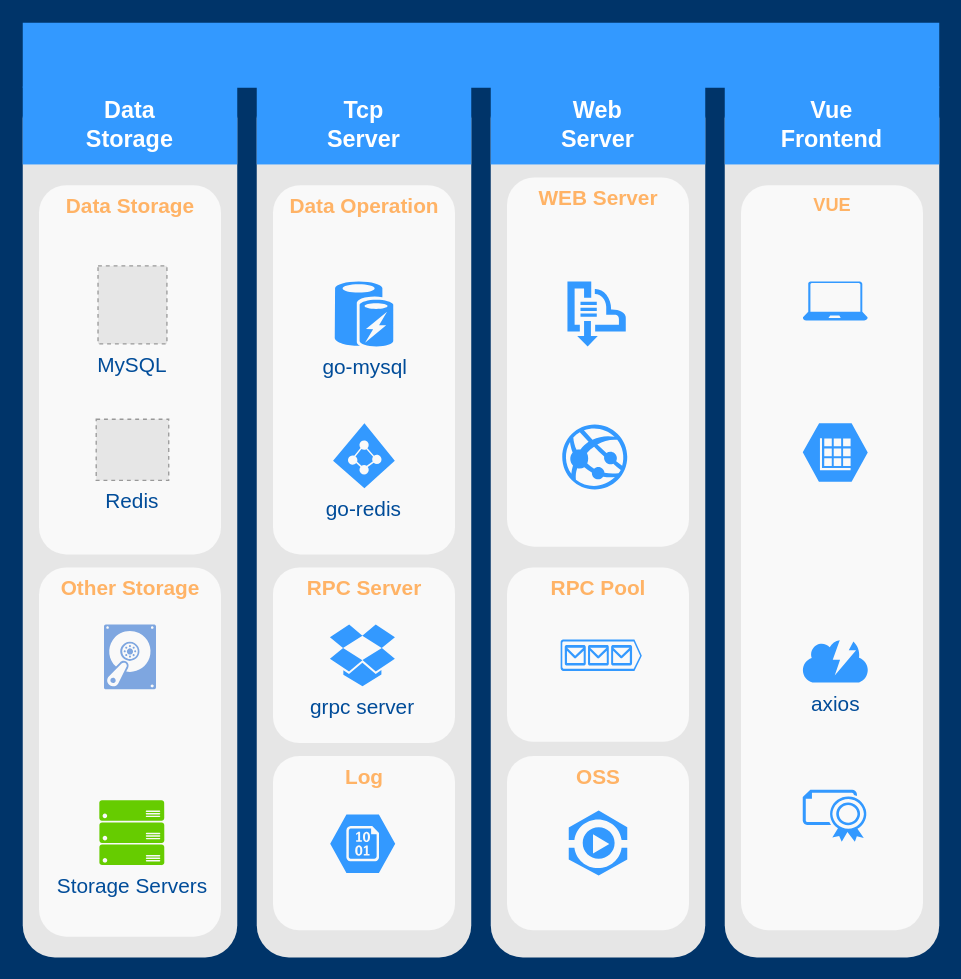
This 961x979 diagram has some shape labels left out. Grey dashed boxes stand in for pictures. Each missing label, with the centre of its shape:
"avatar" belongs at point (597, 842).
"element-ui" belongs at point (834, 451).
"Entry-Task" belongs at point (480, 54).
"grpc client" belongs at point (600, 654).
"logging" belongs at point (362, 843).
"middleware" belongs at point (596, 313).
"Physical Storage" belongs at point (129, 656).
"vue-router" belongs at point (834, 815).
"web api" belongs at point (594, 456).
"web app" belongs at point (834, 300).
